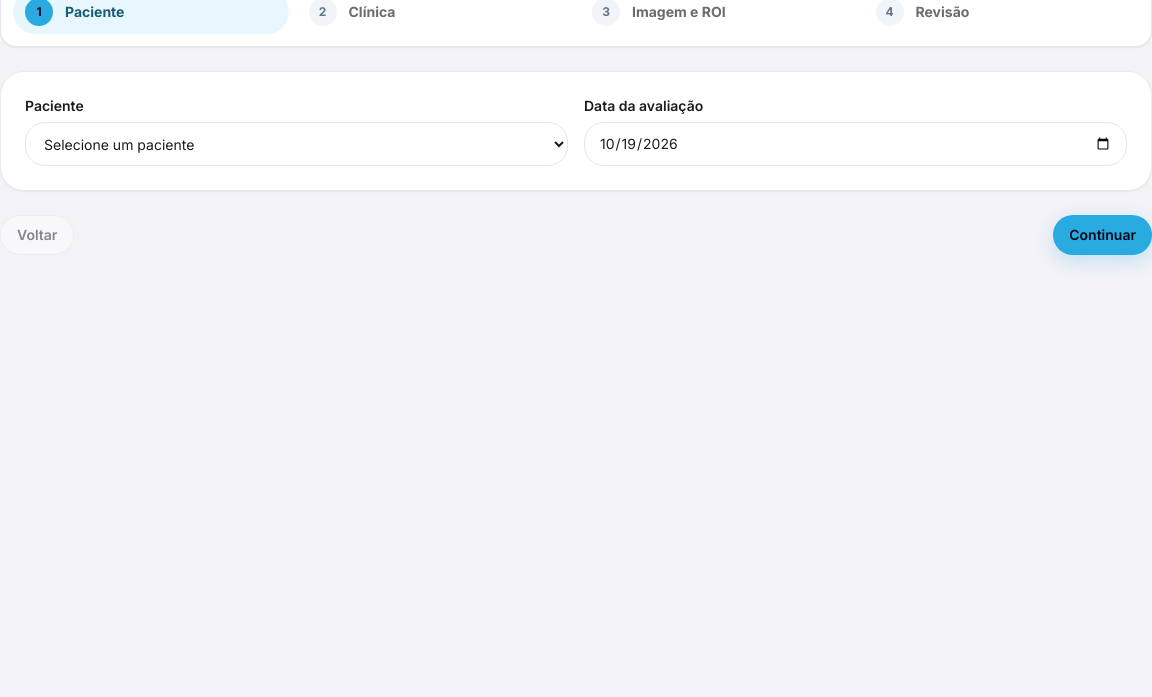
it: EvaluationForm › renderiza fluxo clinico TIMERS estruturado
Select "Tania Silva" in the dropdown labelled "Paciente" at (296, 144), box [25, 122, 568, 166]
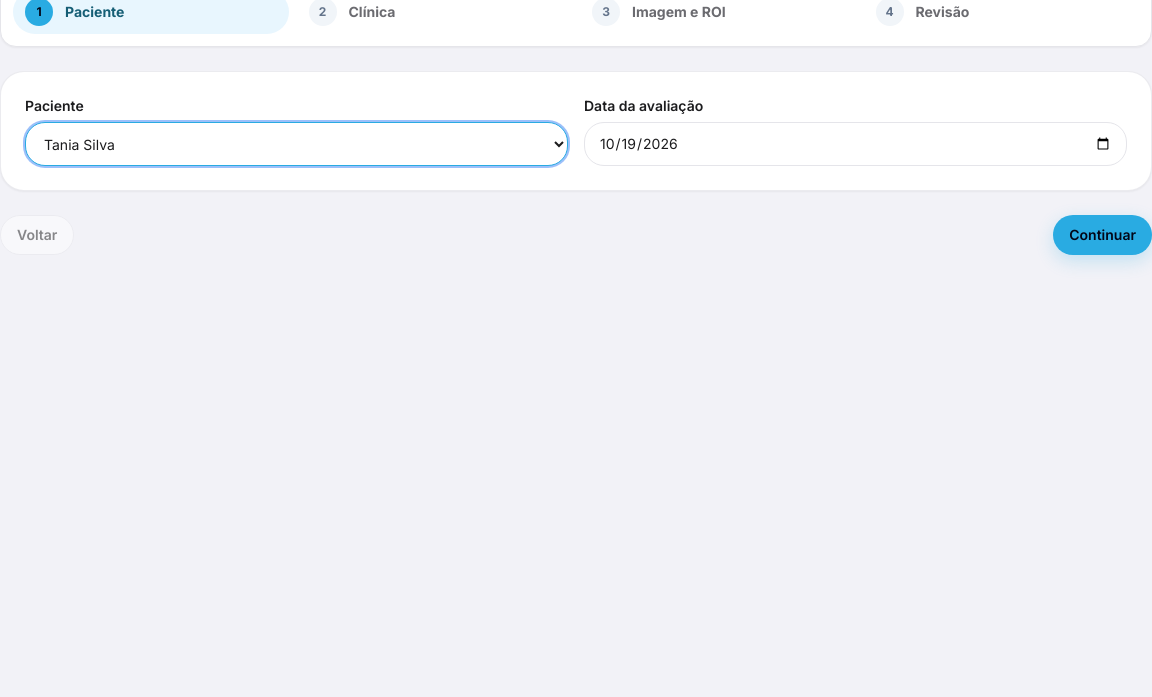
Click the button "Continuar" at (1103, 235), box [1053, 215, 1151, 255]
(page scrolled)
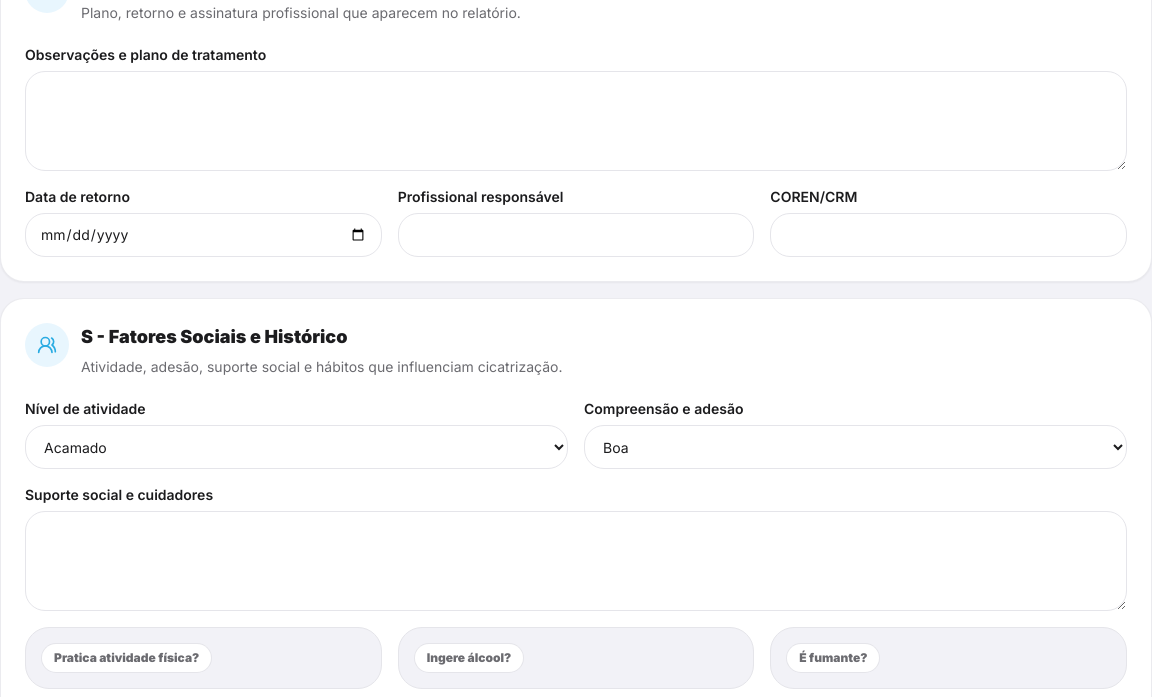
Now the heading "S - Fatores Sociais e Histórico" is shown, box [81, 326, 347, 347]
